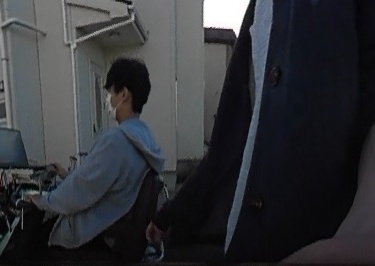person: (23, 55, 161, 248)
